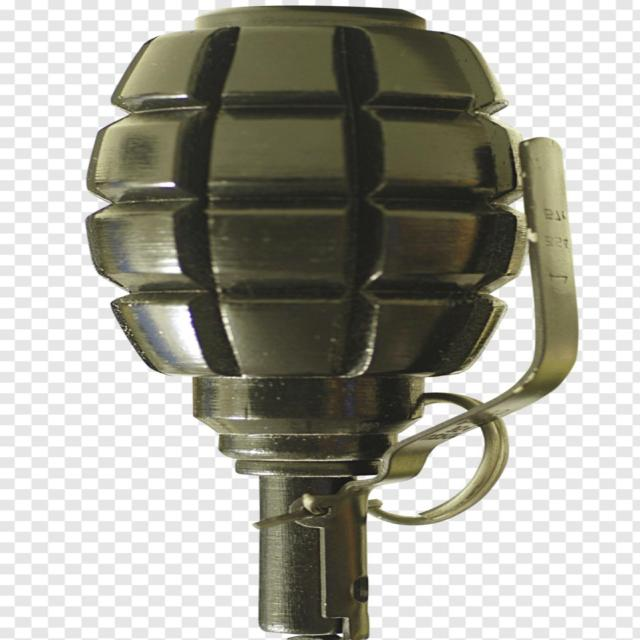grenade: (83, 7, 582, 640)
